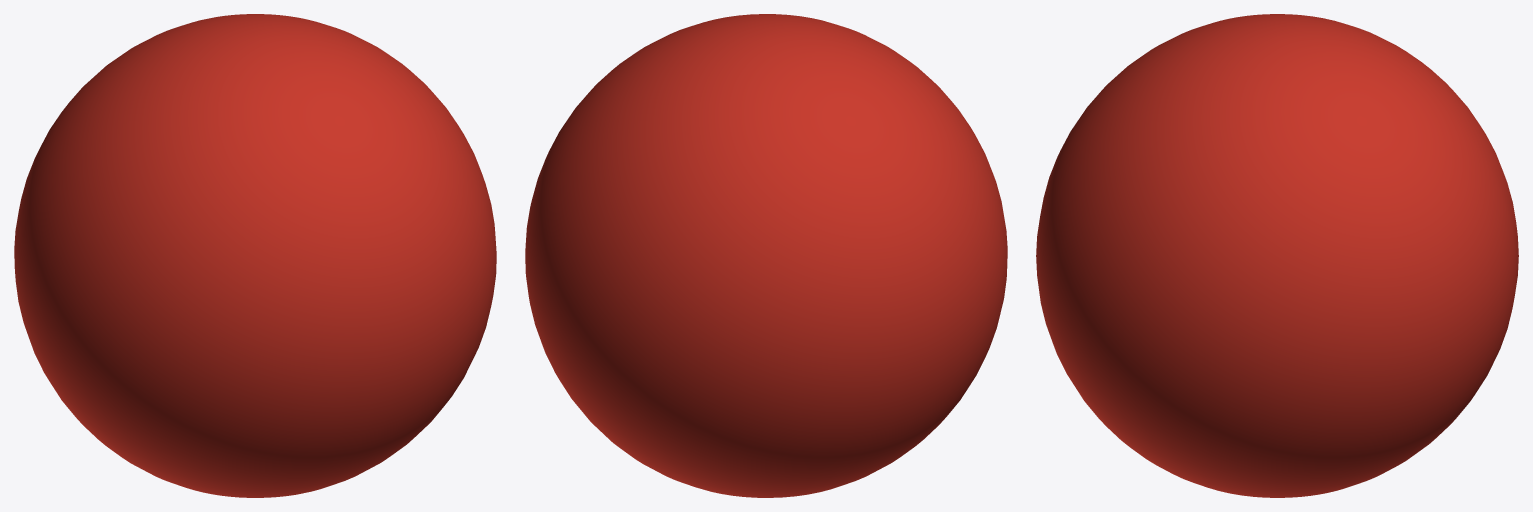
Rendered from ROBOT_CHALLENGE (RED BALL) v2.fbx.
3 views of the same model, side by side, from view 1: azimuth 30°, elevation 25°; view 2: azimuth 150°, elevation 25°; view 3: azimuth 270°, elevation 25° (orthographic).
Visible parts, largest first — view 1: Body1; view 2: Body1; view 3: Body1.
Boxes of the visible parts, x1=… form: Body1: x1=14, y1=14, x2=496, y2=497; Body1: x1=525, y1=14, x2=1007, y2=497; Body1: x1=1036, y1=14, x2=1518, y2=497.
Bounding box in the file's own units: 0.0497 × 0.05 × 0.0497.
